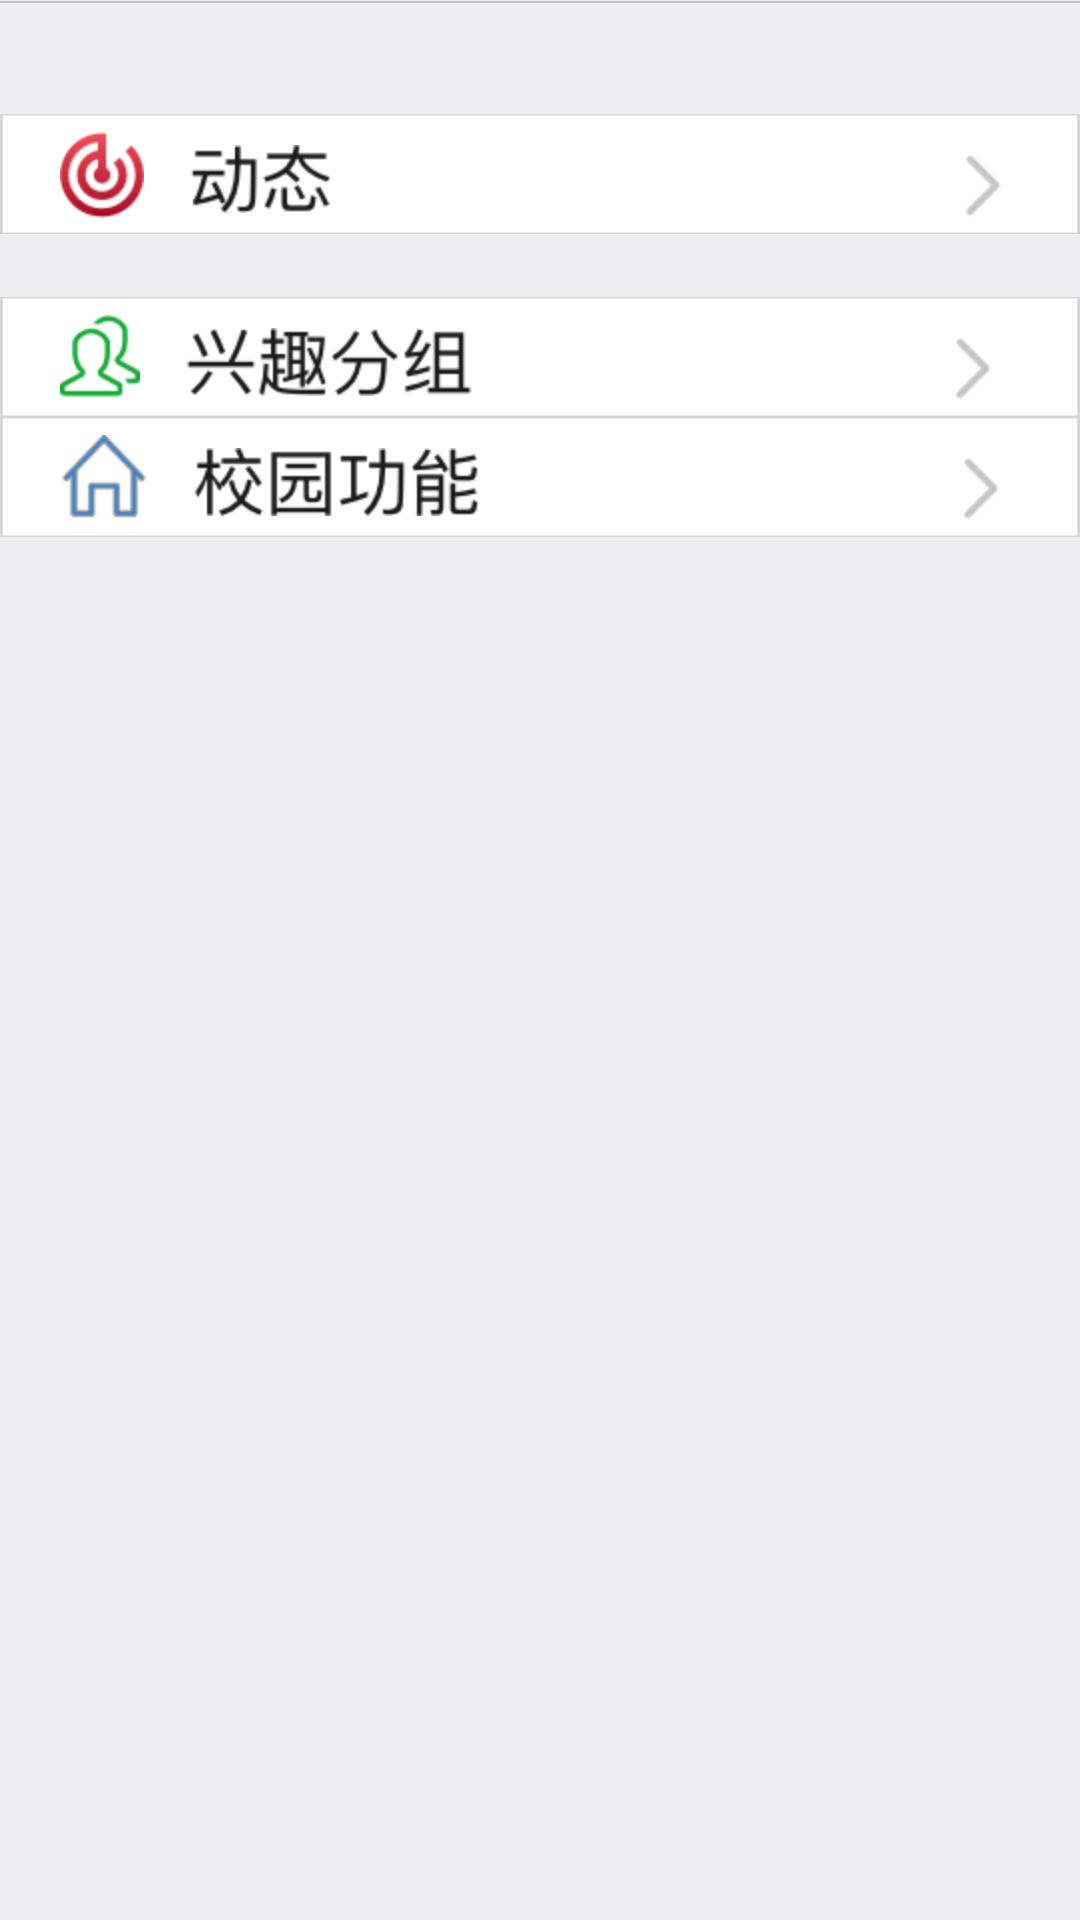

Screen size 1080*1920. Icon name, then its center in pixels as (x,y):
enter: (982,185), (972,368), (980,488)
